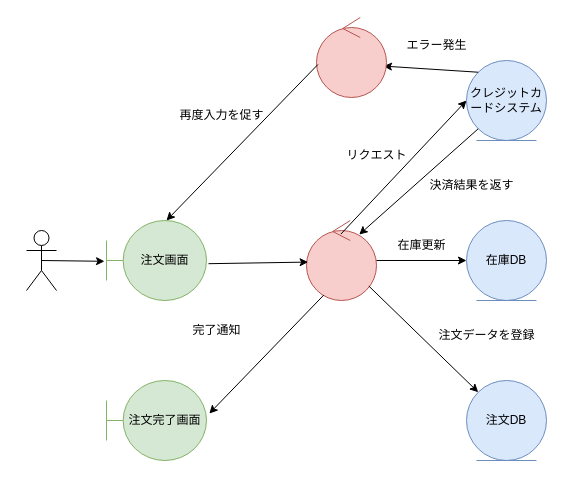
The diagram is 564 pixels wide and 478 high, and some of its shapes have lost their labels. Each missing label, with the box of its shape:
エラー.jsp: (316, 16, 386, 98)
ユーザー: (26, 230, 56, 290)
購入処理: (306, 220, 376, 300)
